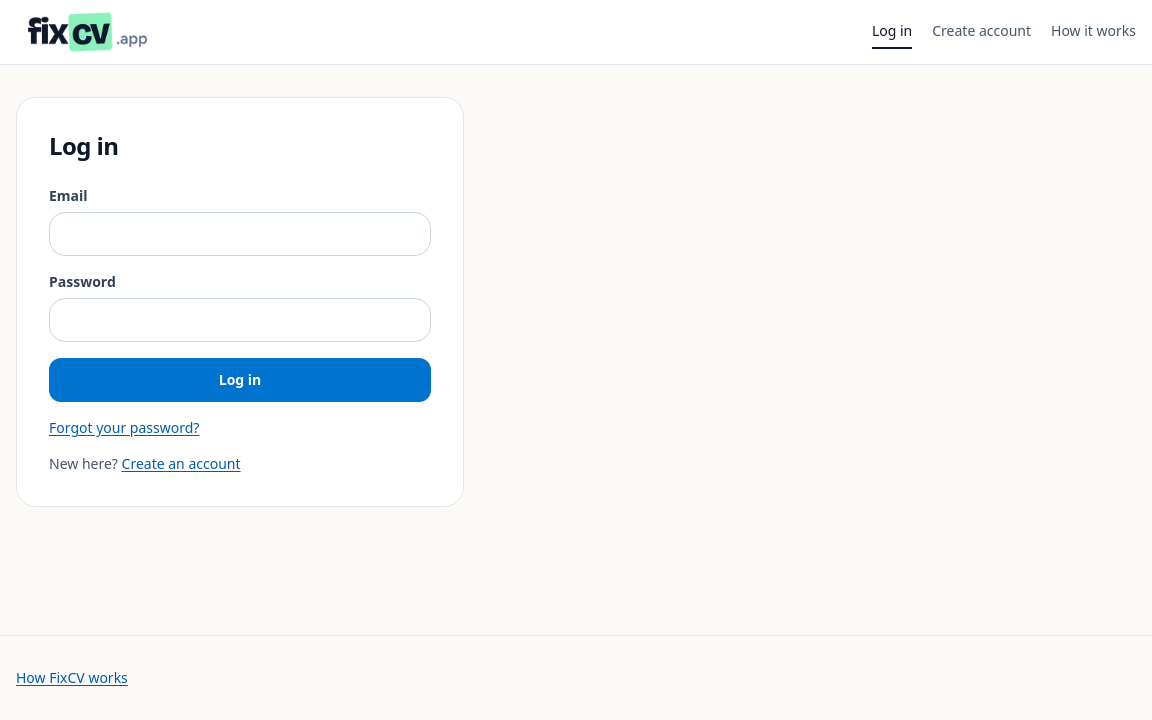
Test: AC-36 (c) /login answering 403 account_disabled › shows "This account has been disabled." in the form alert and keeps the typed email
This screenshot has width=1152, height=720.
In the field labelled "Email": (240, 234) [49,212,431,256], type "gone@example.com"
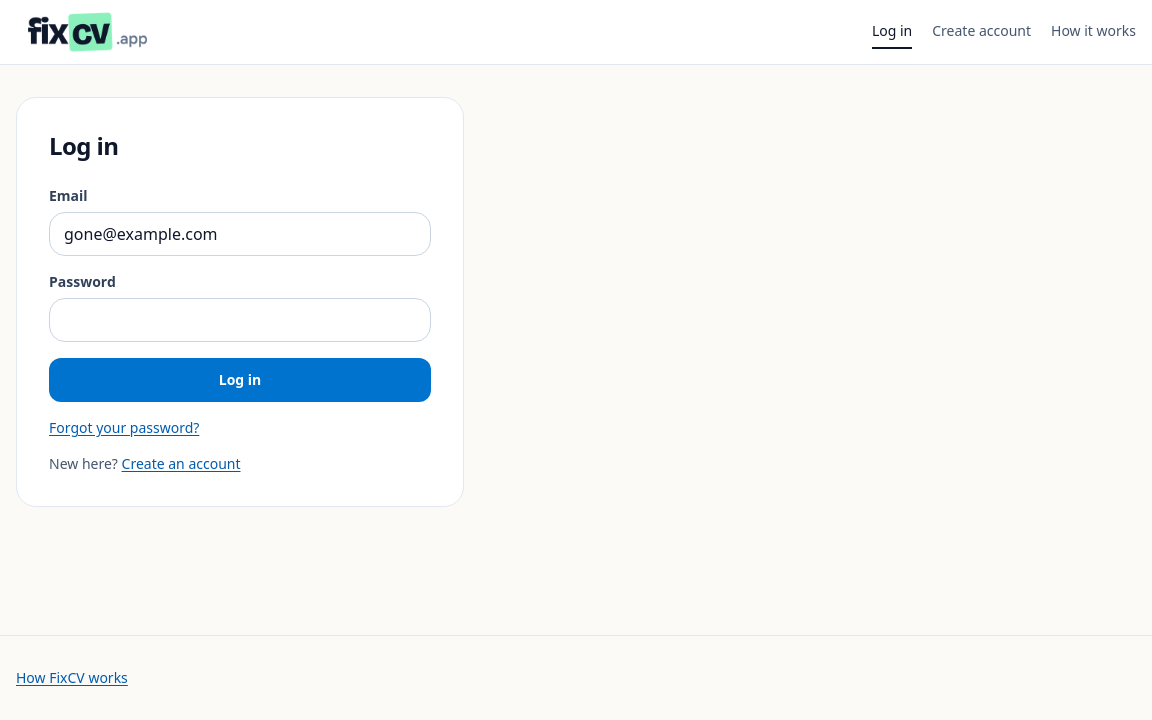
In the password field labelled "Password": (240, 320) [49,298,431,342], type "a very long real password"
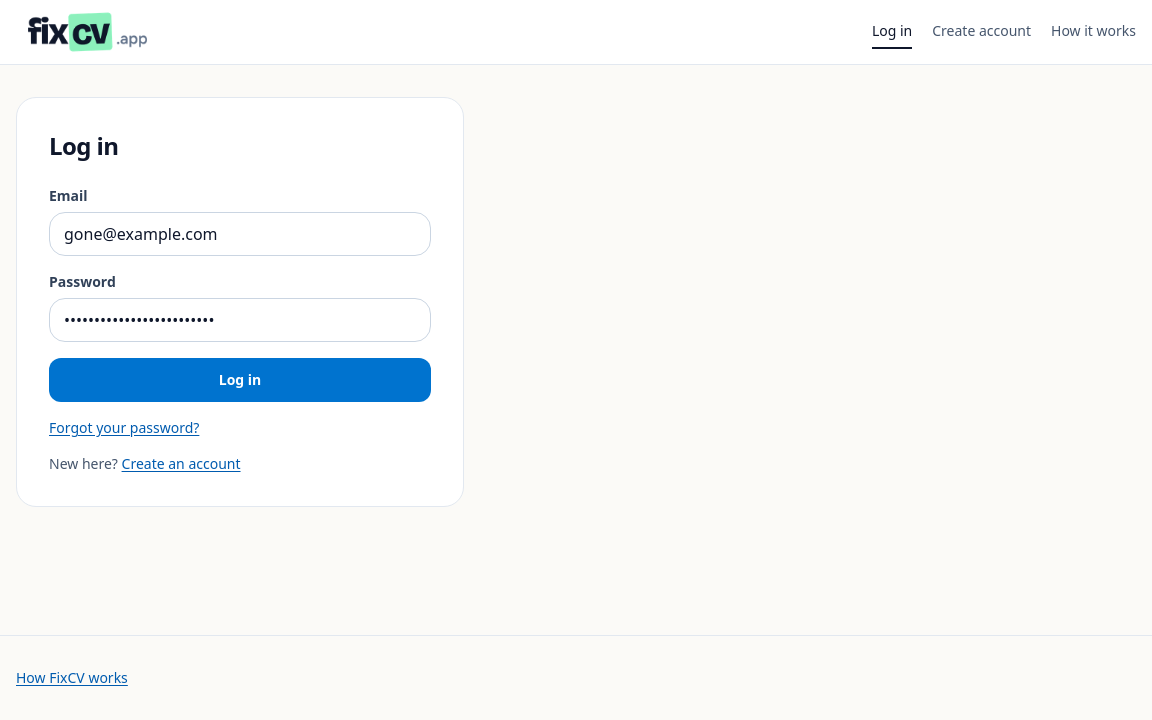
Click the button "Log in": (240, 380) [49,358,431,402]
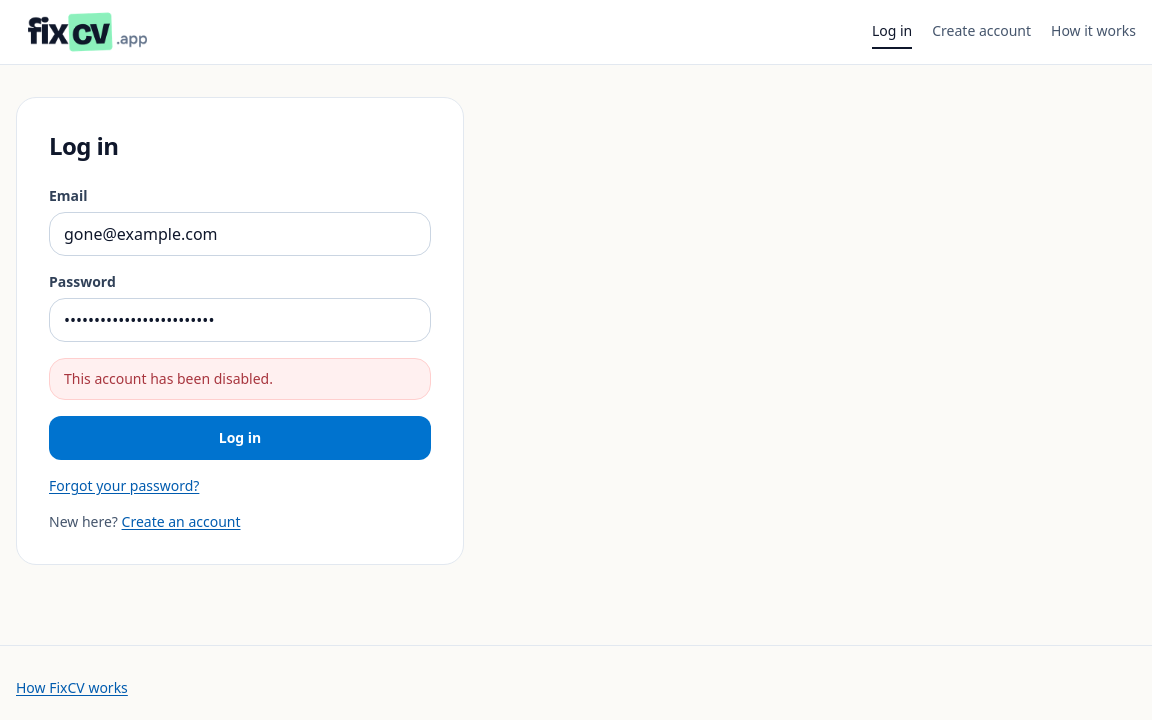
Expected: the message reads "This account has been disabled.", [64,369,273,388]
